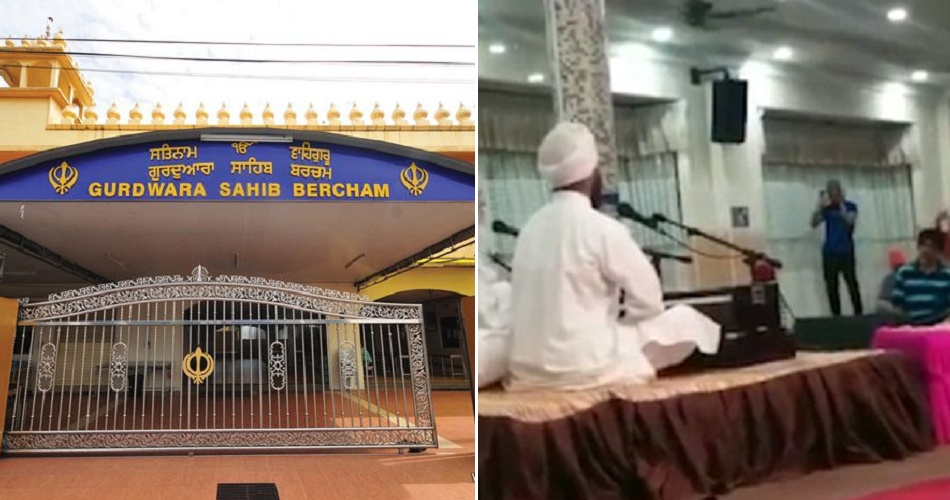Gurdwara: (3, 22, 467, 453)
